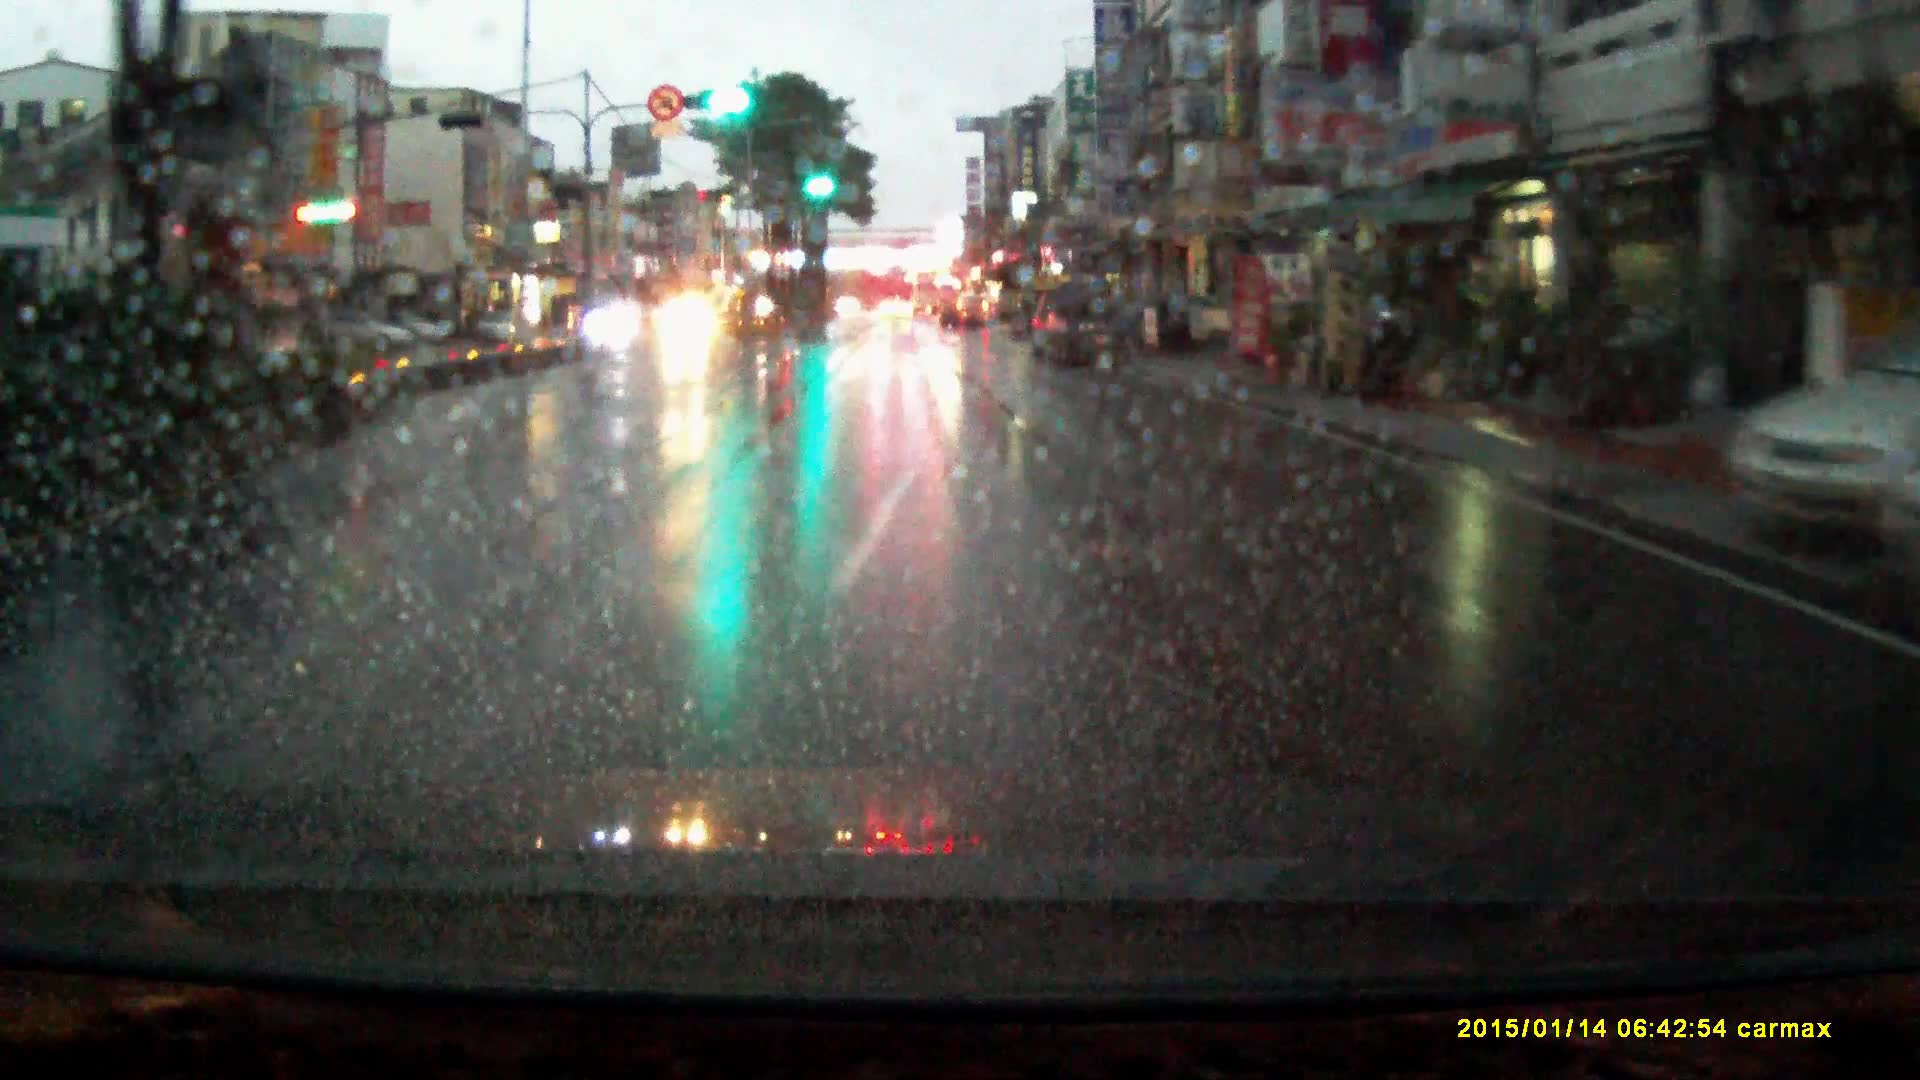vehicle: (1741, 280, 1920, 533), (1038, 284, 1131, 375), (657, 299, 727, 349), (336, 316, 411, 357), (582, 302, 645, 349), (940, 295, 992, 338), (1183, 309, 1236, 349), (477, 311, 535, 348), (910, 276, 943, 319), (880, 303, 914, 324)
